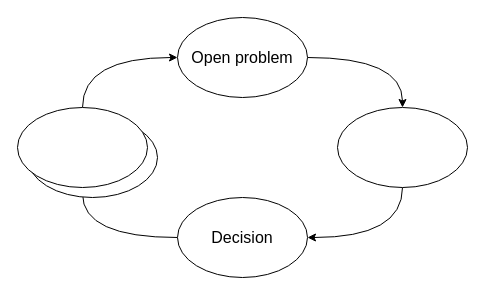
This 485x295 diagram has some shape labels left out. Here are the shapes that lost their labels. From the top down, the centre of each, then its label:
At pixel 82 147: "Component / Implementation".
At pixel 402 147: "Proposal".
